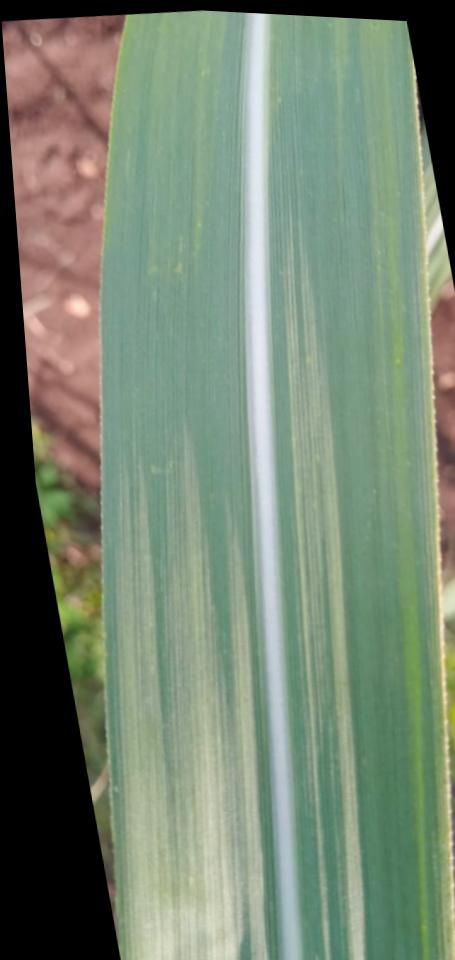Healthy: (100, 10, 455, 960)
